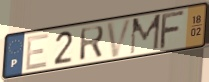2: (54, 30, 75, 67)
E: (24, 31, 51, 72)
F: (158, 9, 187, 52)
M: (128, 12, 163, 57)
R: (78, 24, 106, 62)
V: (105, 16, 135, 60)
